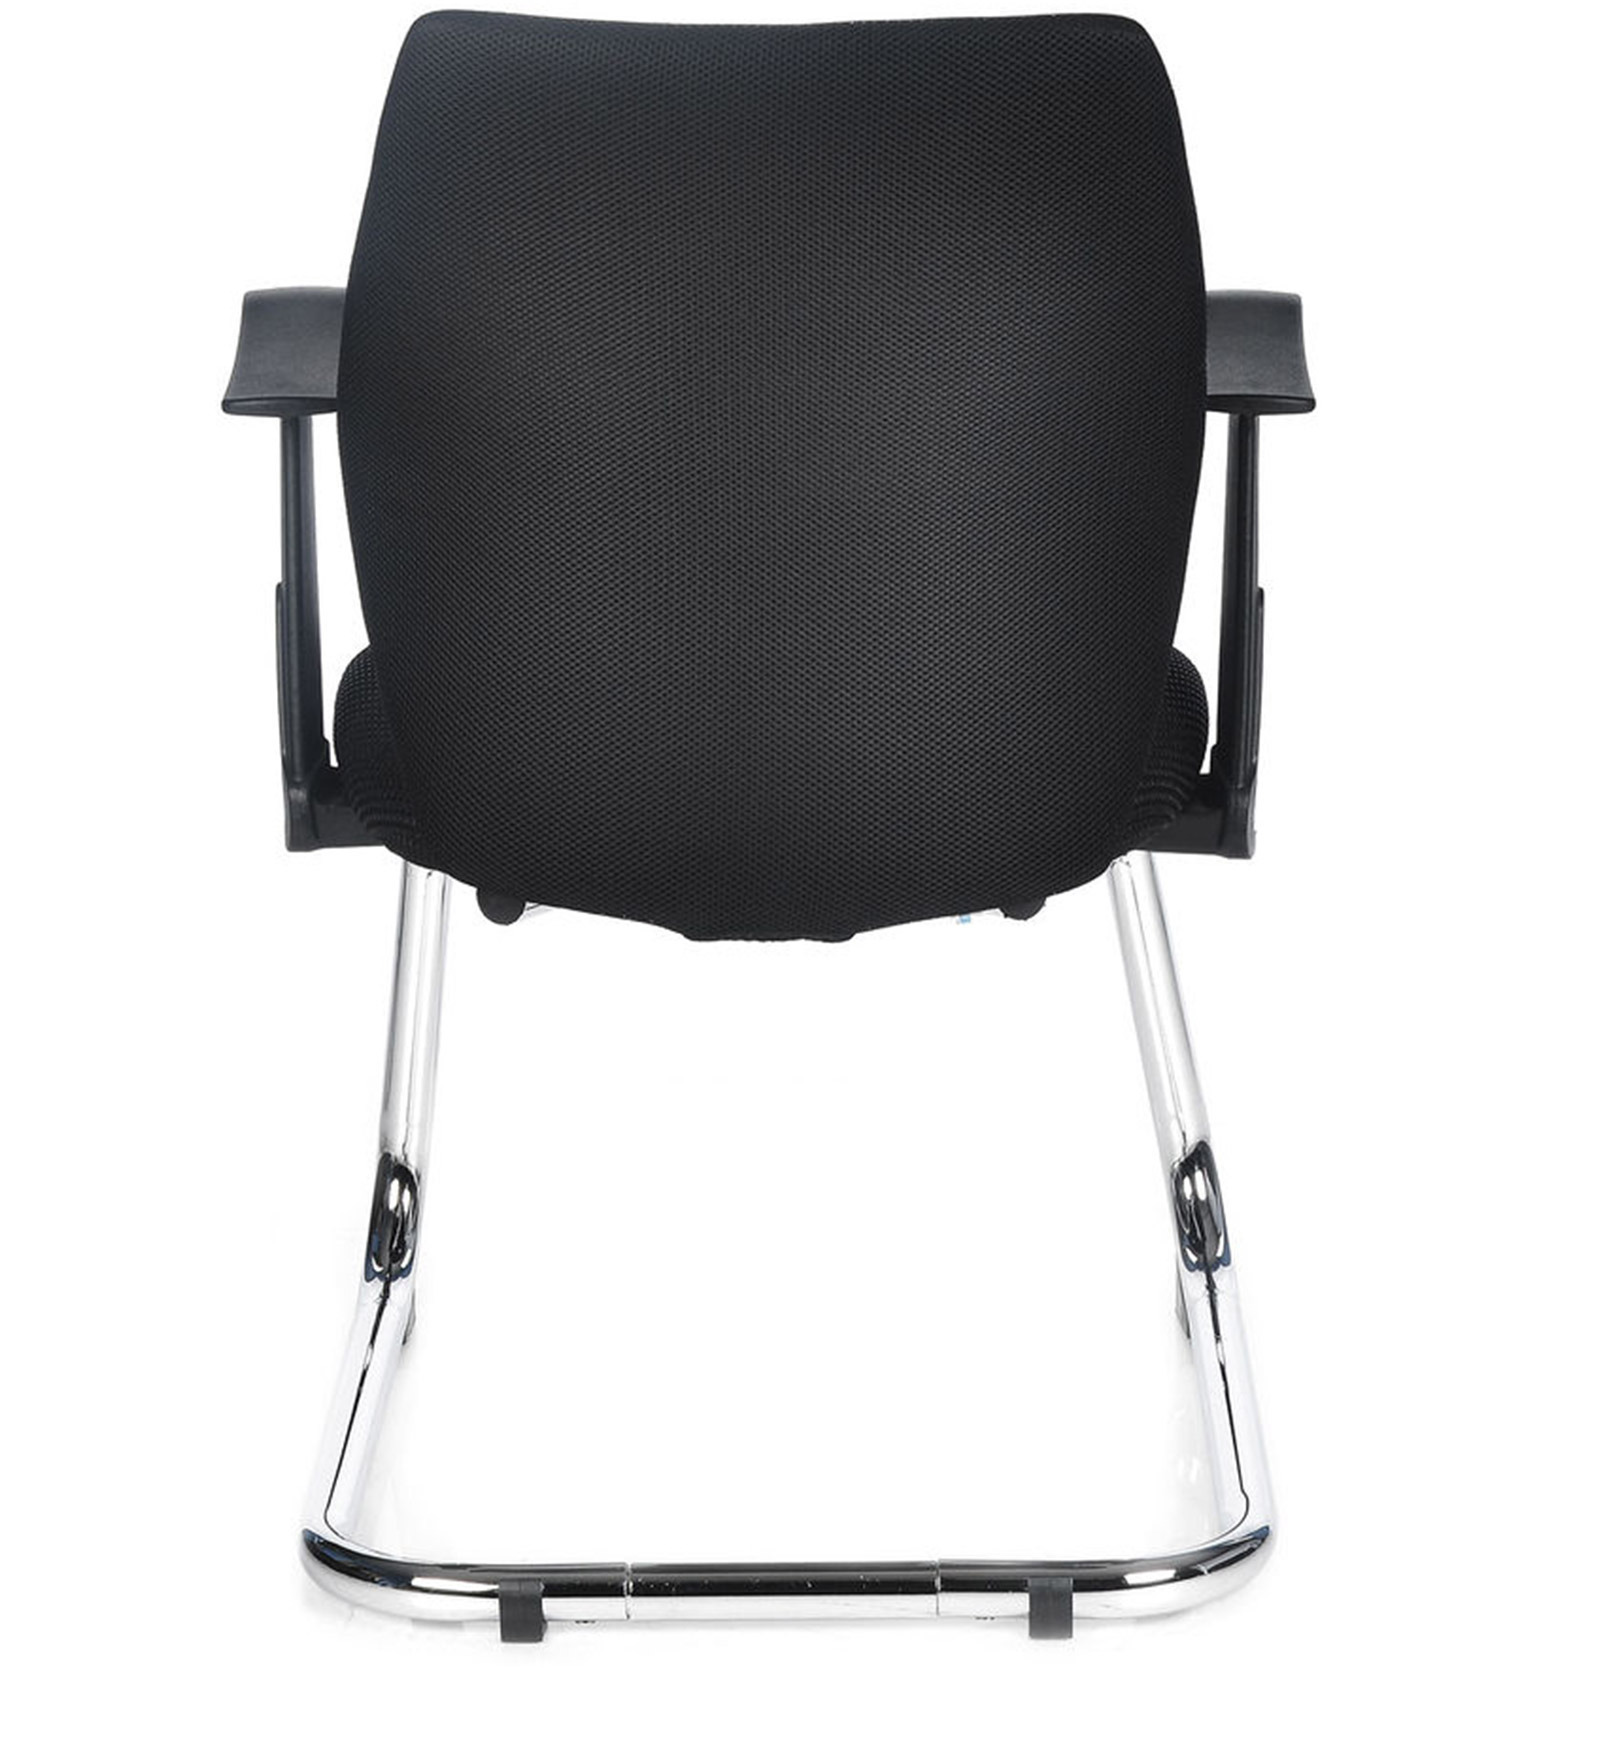Blaze Chair in Black Colour by Nilkamal: (156, 8, 1336, 1656)
